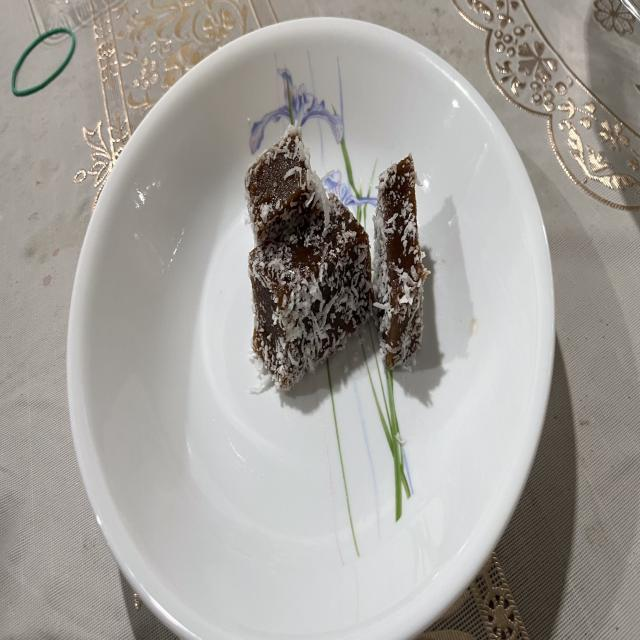kaswi: (249, 191, 376, 391), (372, 156, 429, 371), (245, 120, 322, 246)
